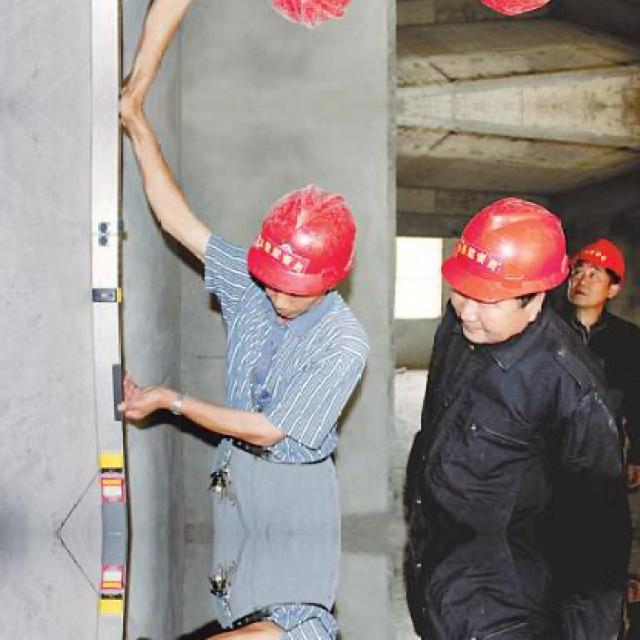helmet: (432, 188, 572, 349), (244, 176, 370, 324), (245, 0, 372, 39), (565, 236, 629, 311)
